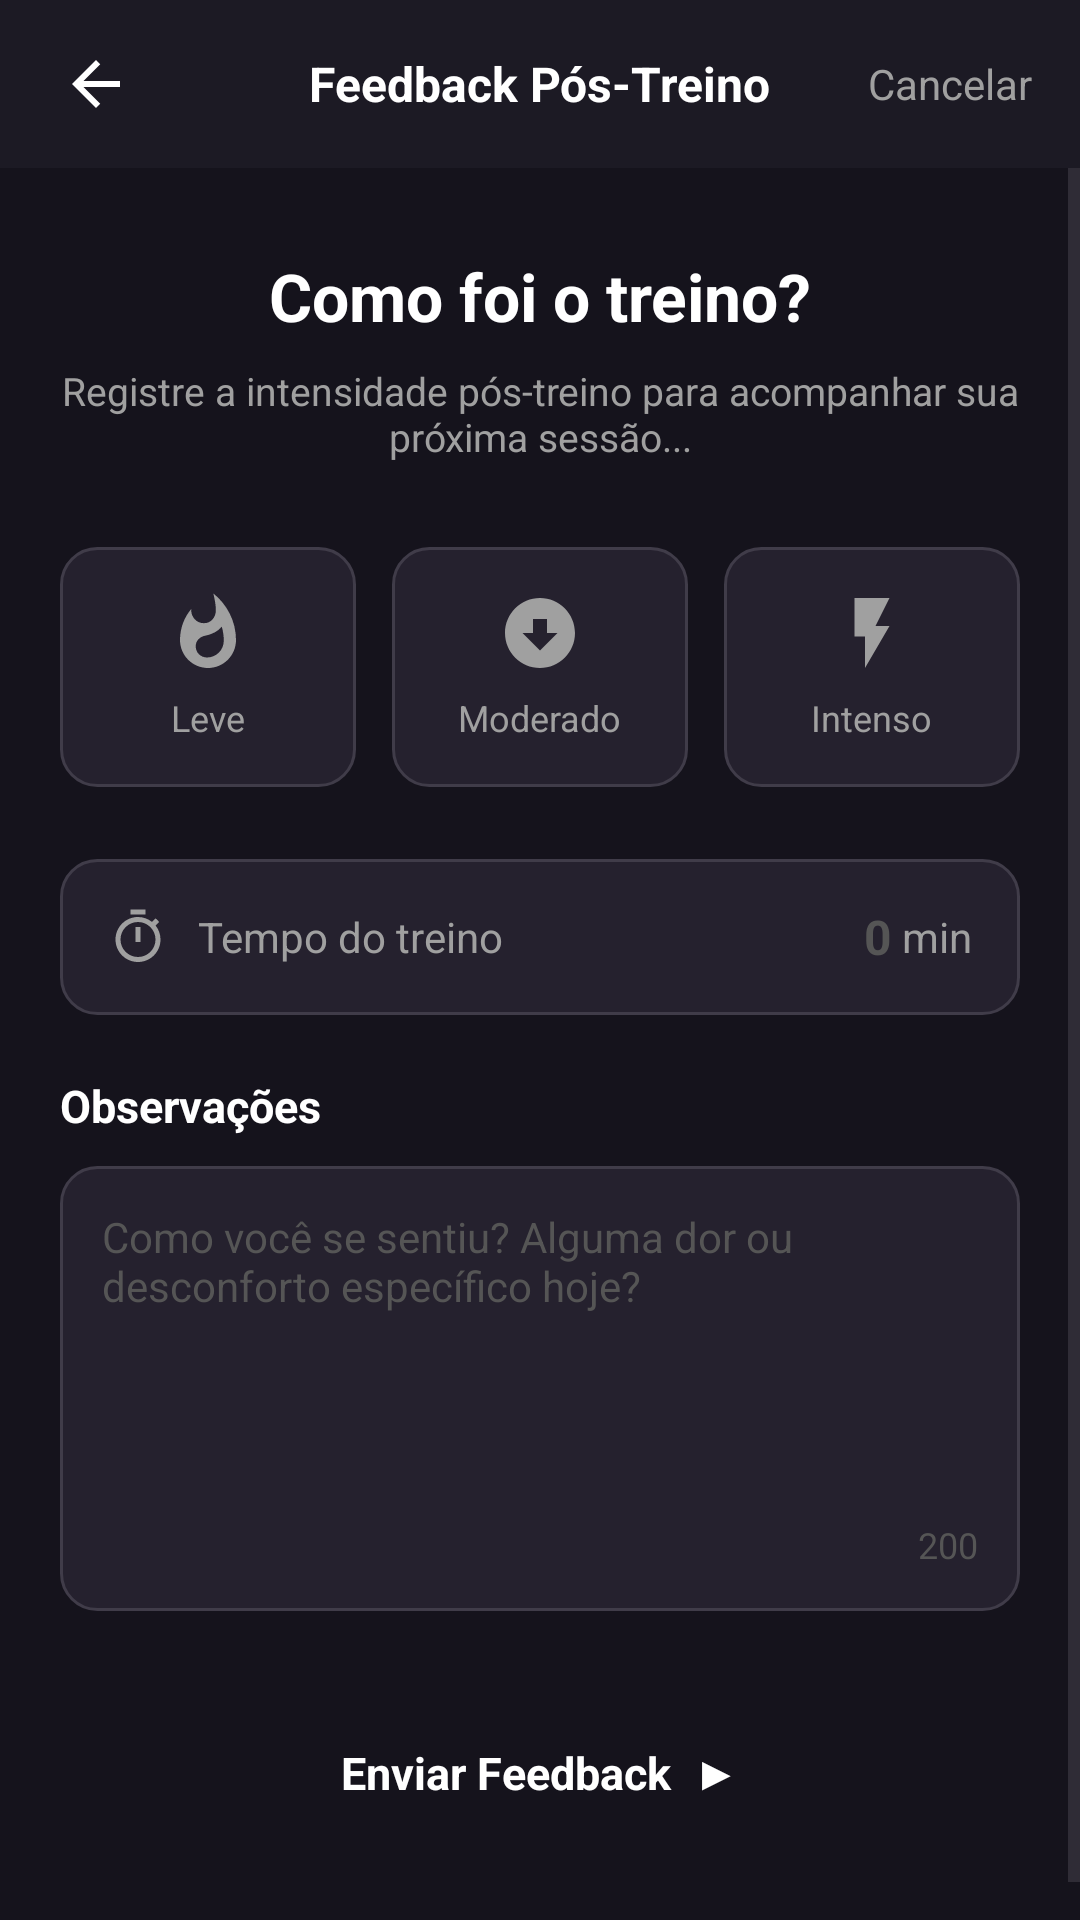

Named icons in this screenshot (1080px x 1920px) and their bounding boxes, (x1, y1, x2, y2):
arrow back: (72, 60, 120, 108)
timer: (115, 909, 161, 962)
